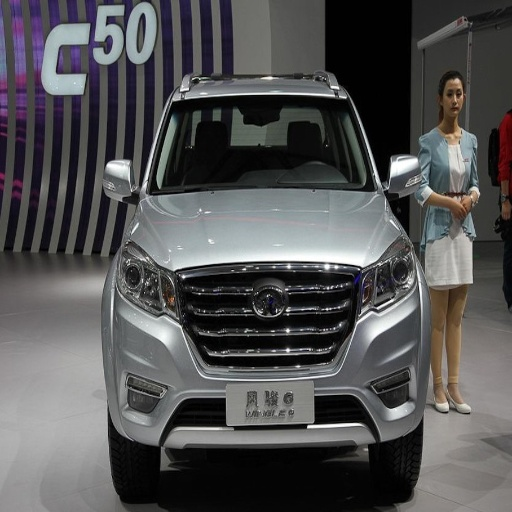front_bumper: (112, 264, 427, 452)
front_right_light: (113, 242, 175, 313)
hood: (133, 188, 403, 269)
left_mirror: (384, 155, 421, 198)
